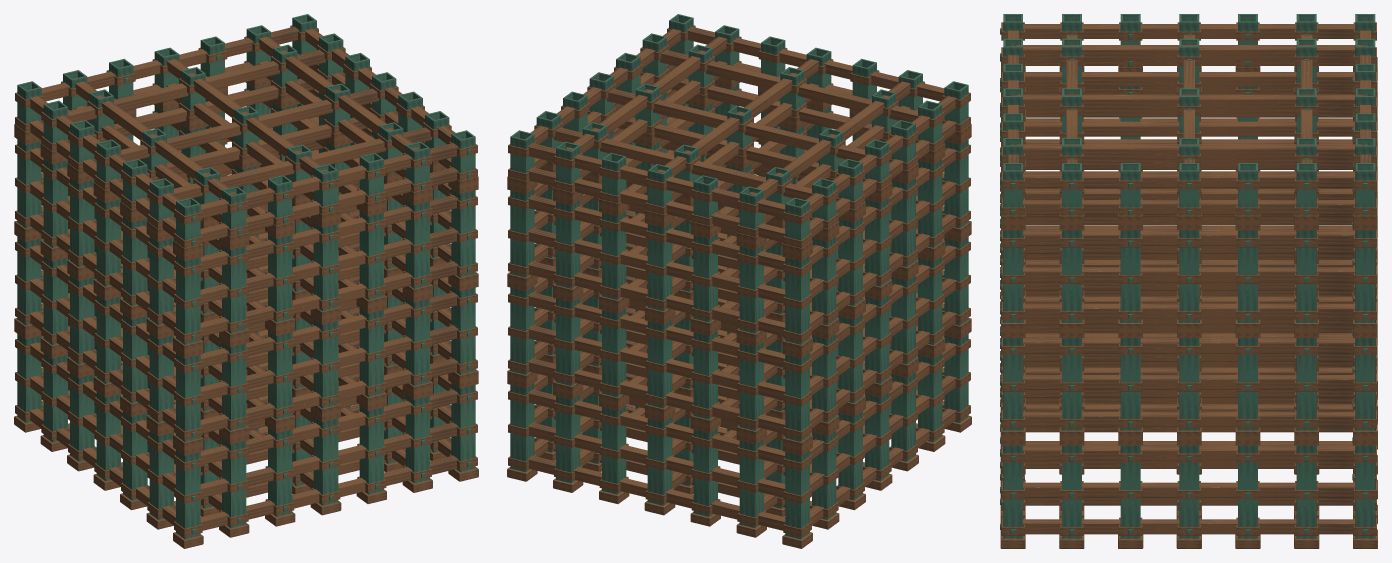
3 views of the same model, side by side, from view 1: azimuth 30°, elevation 25°; view 2: azimuth 150°, elevation 25°; view 3: azimuth 270°, elevation 25° (orthographic). The views are drawn at different scales.
Parts seen in each view (by area): view 1: Tier 3 internal tie 0-0.56-0-0.75, Tier 3 internal tie 0-0-0-0.75, Tier 3 internal tie 0--0.56-0-0.75, Tier 0 tie 0-0-0.5, Tier 0 tie 0-0-0.16, Tier 3 tie 0-0-0.75, Tier 1 tie 0-0-0.5, Tier 1 tie 0-0-0.16, Tier 2 tie 0-0-0.16, Tier 0 tie 0-0-0.84, Tier 2 tie 0-0-0.5, Tier 3 tie 0-0-0.25 (+94 smaller); view 2: Tier 3 internal tie 0--0.56-0-0.75, Tier 3 internal tie 0-0-0-0.75, Tier 3 internal tie 0-0.56-0-0.75, Tier 0 tie 2-0-0.5, Tier 0 tie 2-0-0.16, Tier 3 tie 2-0-0.75, Tier 1 tie 2-0-0.5, Tier 1 tie 2-0-0.16, Tier 2 tie 2-0-0.16, Tier 0 tie 2-0-0.84, Tier 2 tie 2-0-0.5, Tier 3 tie 2-0-0.25 (+94 smaller); view 3: Tier 3 internal tie 1-0-0-0.75, Tier 3 internal tie 1-0.56-0-0.75, Tier 3 internal tie 1-0-0-0.25, Tier 3 internal tie 1--0.56-0-0.75, Tier 3 internal tie 1--0.56-0-0.25, Tier 0 tie 1-0-0.5, Tier 1 tie 1-0-0.16, Tier 2 tie 1-0-0.16, Tier 2 tie 1-0-0.84, Tier 0 tie 1-0-0.16, Tier 1 tie 1-0-0.84, Tier 2 tie 1-0-0.5 (+75 smaller).
Part boxes in pixels (bbox=[...]): Tier 3 internal tie 0-0.56-0-0.75: bbox=[68, 50, 325, 122]; Tier 3 internal tie 0-0-0-0.75: bbox=[121, 88, 378, 161]; Tier 3 internal tie 0--0.56-0-0.75: bbox=[174, 127, 431, 199]; Tier 0 tie 0-0-0.5: bbox=[200, 422, 458, 497]; Tier 0 tie 0-0-0.16: bbox=[200, 455, 458, 530]; Tier 3 tie 0-0-0.75: bbox=[200, 143, 458, 218]; Tier 1 tie 0-0-0.5: bbox=[200, 325, 458, 400]; Tier 1 tie 0-0-0.16: bbox=[200, 358, 458, 433]; Tier 2 tie 0-0-0.16: bbox=[200, 261, 458, 336]; Tier 0 tie 0-0-0.84: bbox=[200, 389, 458, 464]; Tier 2 tie 0-0-0.5: bbox=[200, 228, 458, 303]; Tier 3 tie 0-0-0.25: bbox=[200, 167, 458, 242]; Tier 3 internal tie 0--0.56-0-0.75: bbox=[660, 50, 917, 122]; Tier 3 internal tie 0-0-0-0.75: bbox=[607, 88, 864, 161]; Tier 3 internal tie 0-0.56-0-0.75: bbox=[554, 127, 811, 199]; Tier 0 tie 2-0-0.5: bbox=[527, 422, 785, 497]; Tier 0 tie 2-0-0.16: bbox=[527, 455, 785, 530]; Tier 3 tie 2-0-0.75: bbox=[527, 143, 785, 218]; Tier 1 tie 2-0-0.5: bbox=[527, 325, 785, 400]; Tier 1 tie 2-0-0.16: bbox=[527, 358, 785, 433]; Tier 2 tie 2-0-0.16: bbox=[527, 261, 785, 336]; Tier 0 tie 2-0-0.84: bbox=[527, 389, 785, 464]; Tier 2 tie 2-0-0.5: bbox=[527, 228, 785, 303]; Tier 3 tie 2-0-0.25: bbox=[527, 167, 785, 242]; Tier 3 internal tie 1-0-0-0.75: bbox=[1011, 94, 1367, 109]; Tier 3 internal tie 1-0.56-0-0.75: bbox=[1011, 144, 1367, 159]; Tier 3 internal tie 1-0-0-0.25: bbox=[1025, 121, 1353, 136]; Tier 3 internal tie 1--0.56-0-0.75: bbox=[1011, 45, 1367, 59]; Tier 3 internal tie 1--0.56-0-0.25: bbox=[1025, 72, 1353, 86]; Tier 0 tie 1-0-0.5: bbox=[1023, 482, 1355, 497]; Tier 1 tie 1-0-0.16: bbox=[1023, 411, 1355, 426]; Tier 2 tie 1-0-0.16: bbox=[1023, 303, 1355, 318]; Tier 2 tie 1-0-0.84: bbox=[1023, 230, 1355, 245]; Tier 0 tie 1-0-0.16: bbox=[1023, 519, 1355, 534]; Tier 1 tie 1-0-0.84: bbox=[1023, 338, 1355, 353]; Tier 2 tie 1-0-0.5: bbox=[1023, 267, 1355, 282].
Size of the model in its own units: 1.8 by 1.98 by 1.8.
2 materials, 2 textured.
